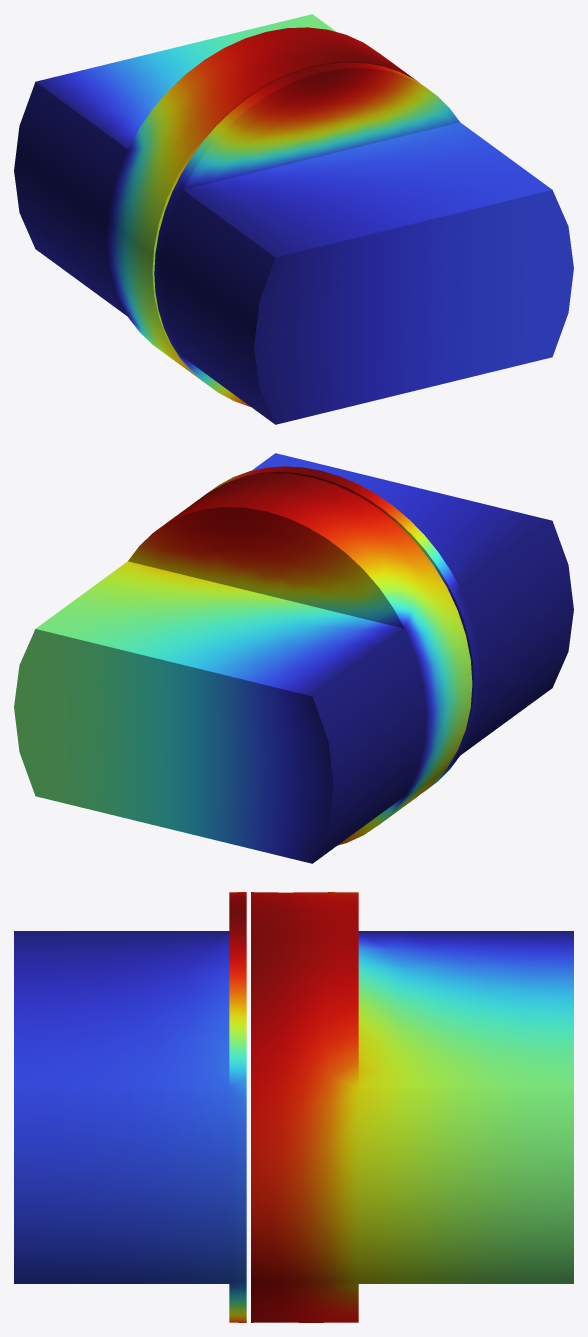
Rendered from PilaN2-H20_mh2-1.38_V-1.glb.
The picture shows the model from 3 angles, top to bottom: view 1: azimuth 30°, elevation 25°; view 2: azimuth 150°, elevation 25°; view 3: azimuth 270°, elevation 25°; orthographic projection. The views are drawn at different scales.
Bounding box in the file's own units: 0.001 × 0.001 × 0.0013.
2 materials, 2 textured.
